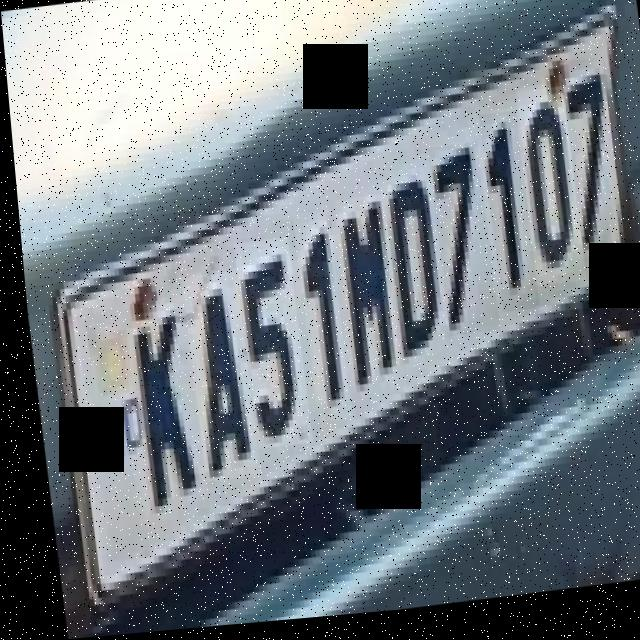0: (516, 93, 577, 294)
1: (290, 215, 343, 426), (477, 120, 530, 320)
5: (232, 243, 301, 452)
7: (560, 69, 617, 272), (427, 151, 484, 342)
A: (184, 276, 250, 483)
D: (382, 176, 439, 379)
K: (122, 301, 192, 522)
M: (332, 201, 391, 403)
